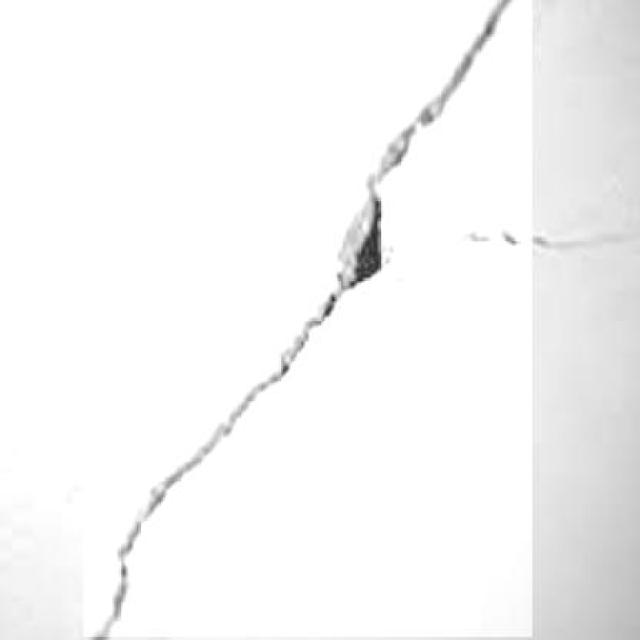Crack: (85, 210, 383, 628), (341, 0, 510, 204), (522, 224, 640, 258), (423, 225, 519, 264)
